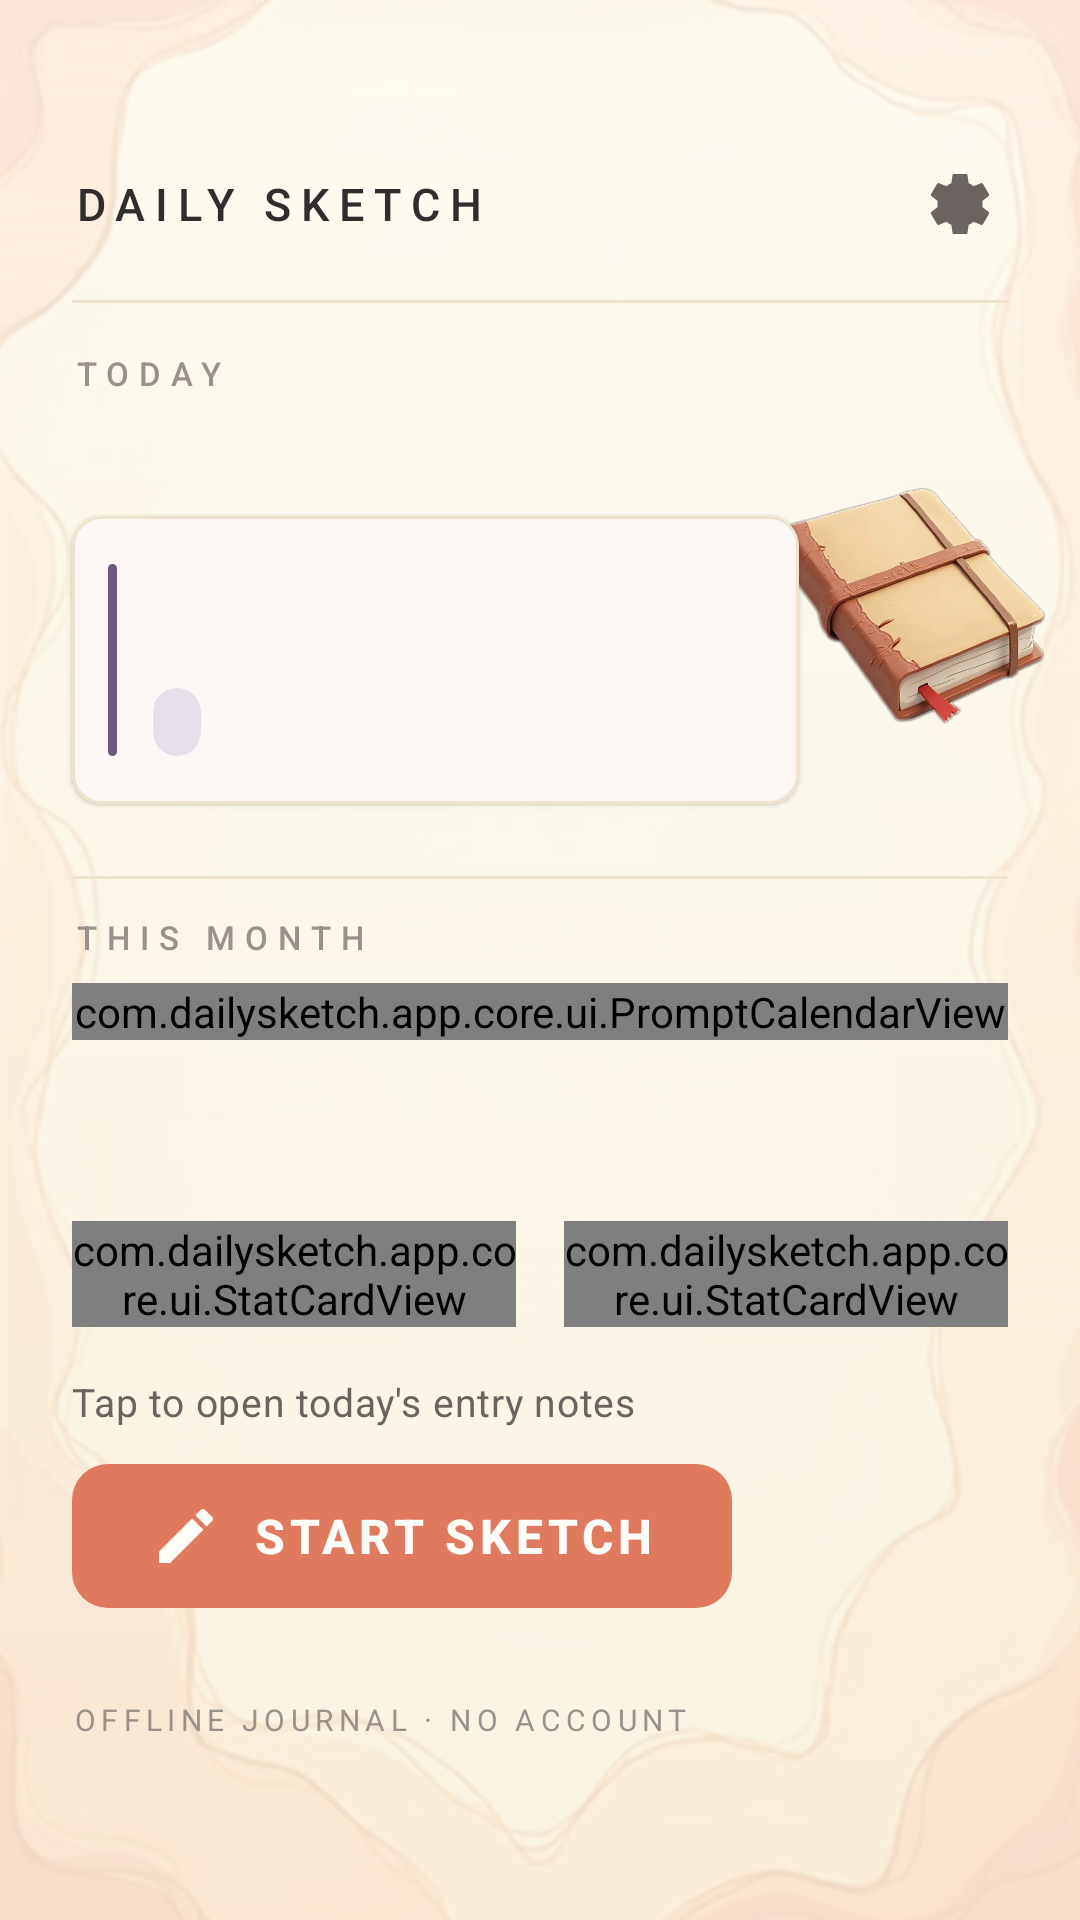

Where to tap for icons on this 1080 × 1920 app screen, as (x,y):
Open settings: (960,204)
